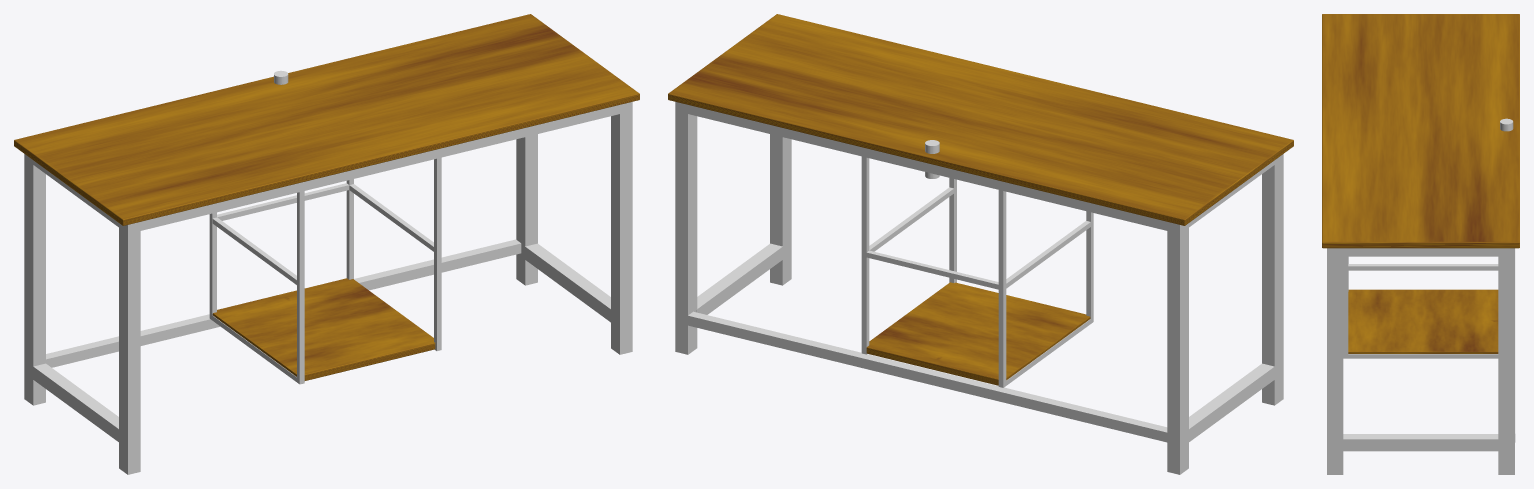
File: Banhoc.fbx
The picture shows the model from 3 angles, left to right: view 1: azimuth 30°, elevation 25°; view 2: azimuth 150°, elevation 25°; view 3: azimuth 270°, elevation 25°; orthographic projection. The views are drawn at different scales.
Visible parts, largest first — view 1: Top, Top.001, Cube.006, Cube.007, Cube.001, Cube.004, Cube.008, Cube.005, Cube.010, Cube.009, Cube.013, Cube.014 (+5 smaller); view 2: Top, Top.001, Cube.008, Cube.005, Cube.004, Cube, Cube.006, Cube.007, Cube.009, Cube.010, Cube.012, Cube.011 (+5 smaller); view 3: Top, Top.001, Cube.005, Cube.007, Cube.010, Cube.002, Cube.020, Cube.016, Cube.014.
Part boxes in pixels (x1,y1,x2,y2): Top: (14, 14, 639, 225); Top.001: (212, 278, 435, 380); Cube.006: (119, 228, 140, 474); Cube.007: (611, 111, 632, 354); Cube.001: (119, 102, 632, 233); Cube.004: (24, 158, 45, 405); Cube.008: (46, 239, 521, 367); Cube.005: (516, 134, 537, 285); Cube.010: (524, 243, 610, 322); Cube.009: (32, 363, 118, 441); Cube.013: (297, 191, 304, 384); Cube.014: (434, 157, 441, 350); Top: (668, 14, 1293, 225); Top.001: (866, 282, 1090, 385); Cube.008: (688, 311, 1167, 442); Cube.005: (675, 111, 697, 354); Cube.004: (1167, 228, 1188, 474); Cube: (675, 102, 1188, 233); Cube.006: (1262, 158, 1283, 405); Cube.007: (770, 134, 791, 285); Cube.009: (1188, 363, 1274, 442); Cube.010: (696, 243, 782, 314); Cube.012: (998, 190, 1006, 387); Cube.011: (861, 156, 869, 354); Top: (1322, 14, 1519, 248); Top.001: (1348, 289, 1498, 353); Cube.005: (1498, 256, 1514, 474); Cube.007: (1327, 256, 1343, 474); Cube.010: (1343, 434, 1498, 451); Cube.002: (1343, 248, 1498, 256); Cube.020: (1348, 264, 1498, 270); Cube.016: (1348, 354, 1498, 358); Cube.014: (1343, 256, 1348, 358).
Size of the model in its own units: 164 by 80.9 by 60.
Materials: 1 (1 with a texture image).
